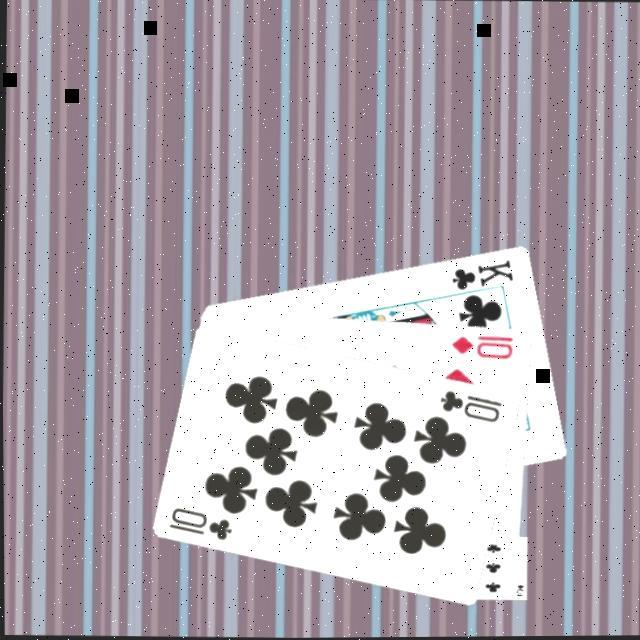10C: (165, 504, 236, 545), (436, 387, 506, 426)
10D: (448, 332, 517, 363)
KC: (445, 257, 516, 303)
